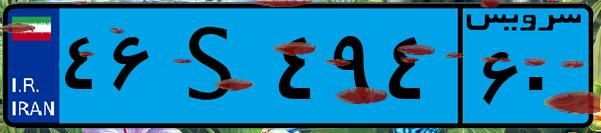0: (525, 38, 570, 115)
4: (270, 28, 330, 110), (385, 28, 445, 110), (57, 26, 110, 100)
6: (475, 38, 525, 113), (110, 28, 158, 98)
9: (330, 28, 385, 110)
S: (158, 12, 270, 120)
